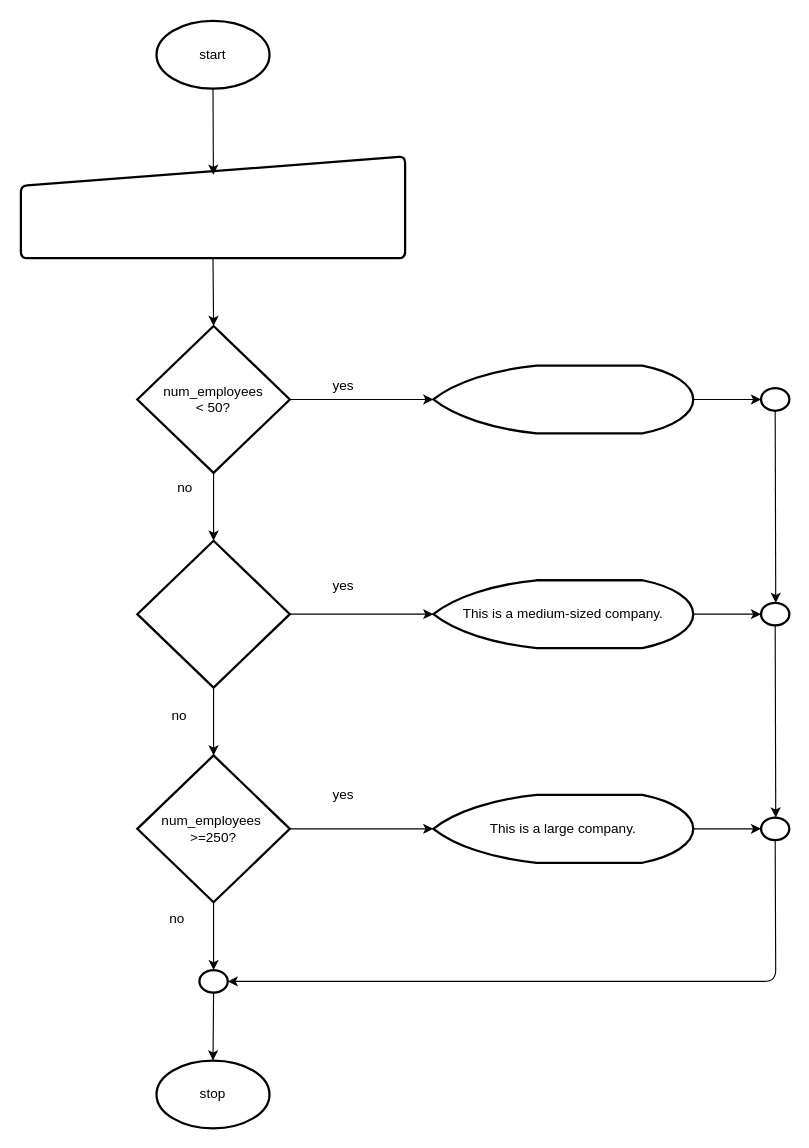
Image size: 809x1148. Some labels were removed from this diagram. The centre of each missing label's shape, as x and y in pixels:
"Enter the number of emplyees: num_empolyees" belongs at (x=212, y=207).
"num_employees < 250?" belongs at (x=213, y=613).
"This is a small company." belongs at (x=563, y=399).
